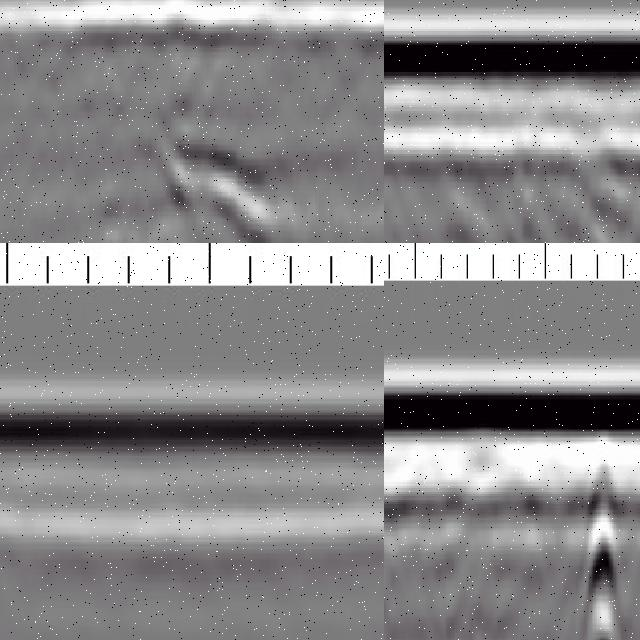crack: (588, 430, 618, 640)
loose: (515, 119, 640, 244), (168, 130, 299, 244)
